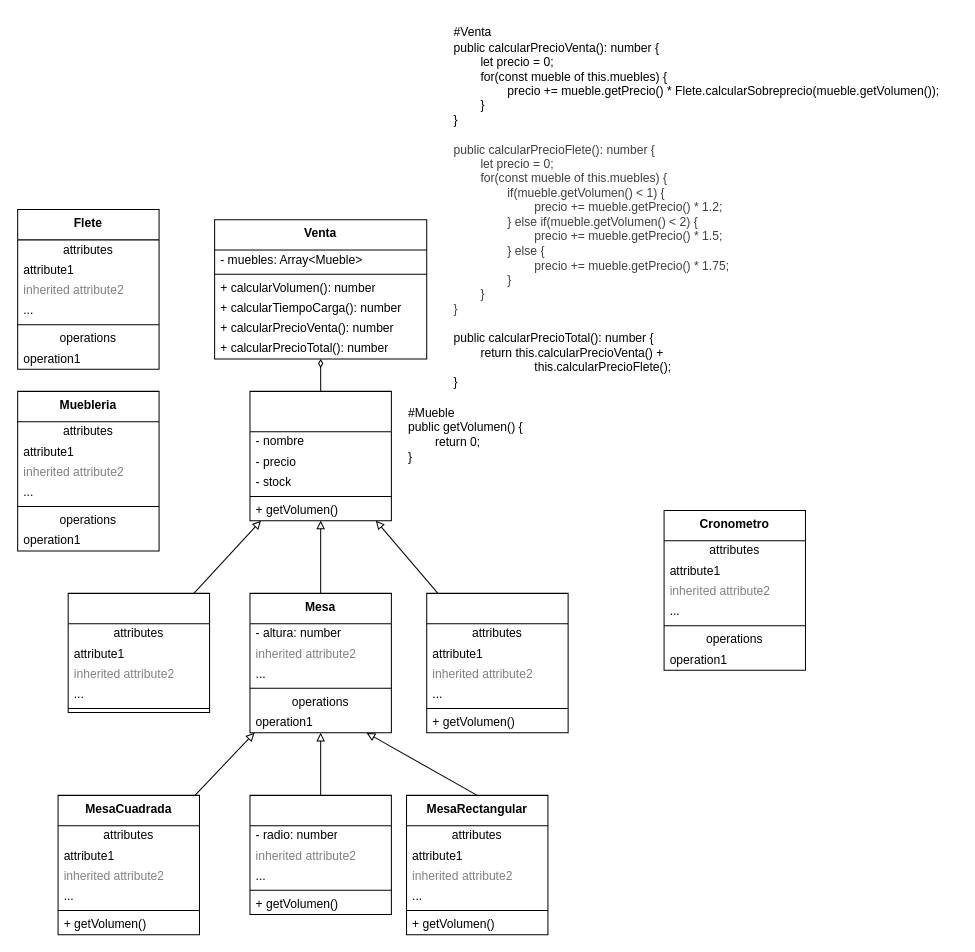
Image size: 975x952. Some labels were removed from this diagram. The box of each missing label's shape, as (x1, y1, x2, y2) in pixels:
<<abstract>> Mueble: (249, 390, 391, 521)
MesaRedonda: (249, 794, 391, 915)
Placard: (426, 592, 568, 733)
Silla: (67, 592, 210, 713)
